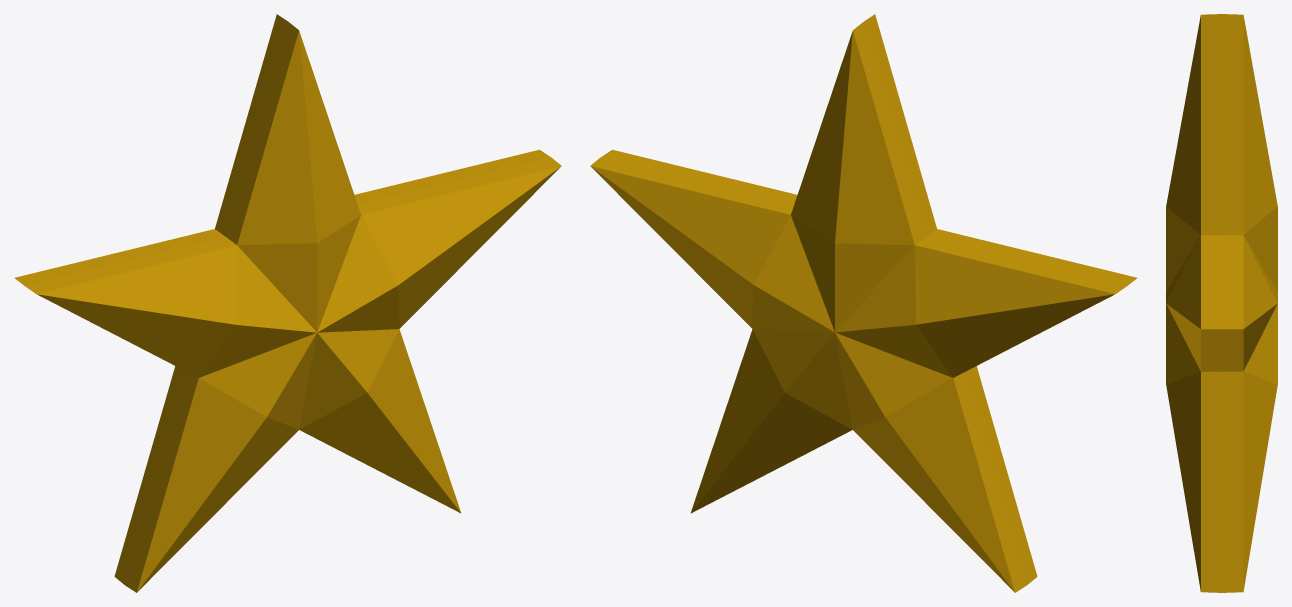
File: Star.obj
3 renders of one model, left to right at view 1: azimuth 30°, elevation 25°; view 2: azimuth 150°, elevation 25°; view 3: azimuth 270°, elevation 25°, orthographic. The views are drawn at different scales.
Visible parts, largest first — view 1: Cube.013; view 2: Cube.013; view 3: Cube.013.
Boxes of the visible parts, box(x1,y1,x2,y2) form: Cube.013: box(14, 14, 561, 592); Cube.013: box(590, 14, 1137, 592); Cube.013: box(1166, 14, 1277, 592).
Bounding box in the file's own units: 3.13 × 2.98 × 0.5993.
